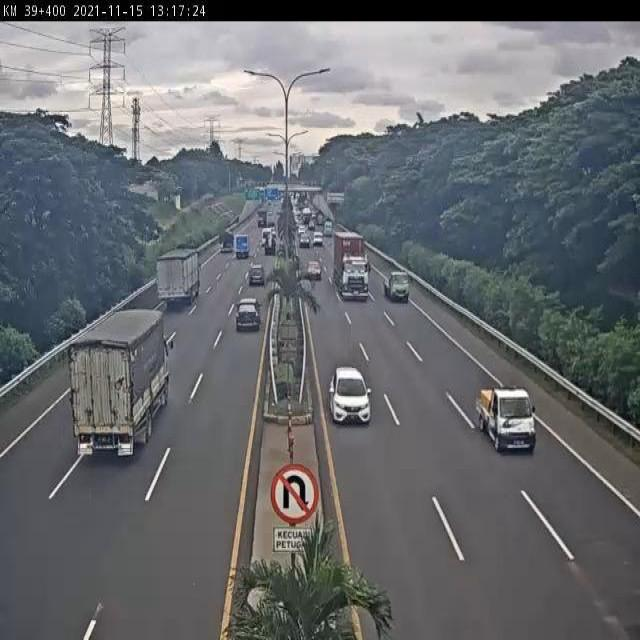big truck: (333, 232, 370, 301)
car: (329, 367, 371, 425), (236, 299, 262, 332), (247, 262, 267, 290), (305, 258, 322, 282)
truck-m-: (69, 309, 172, 456), (157, 248, 201, 307)
truck-s-: (476, 385, 537, 455), (383, 271, 410, 301)
